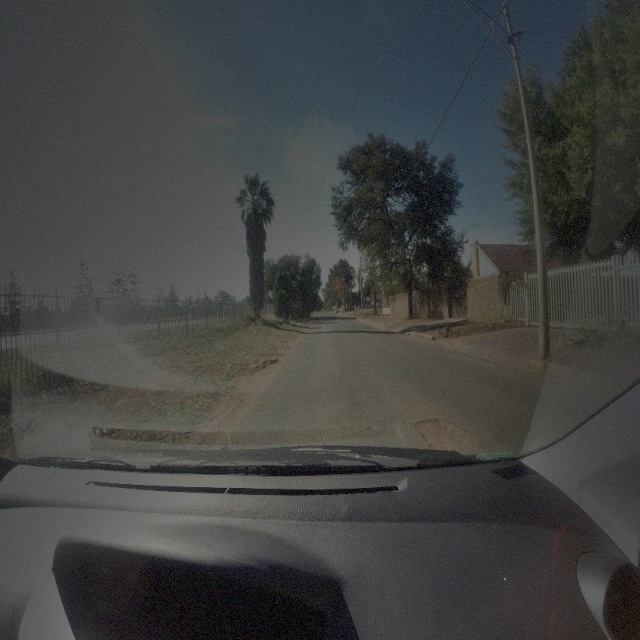pothole: (411, 410, 474, 453)
